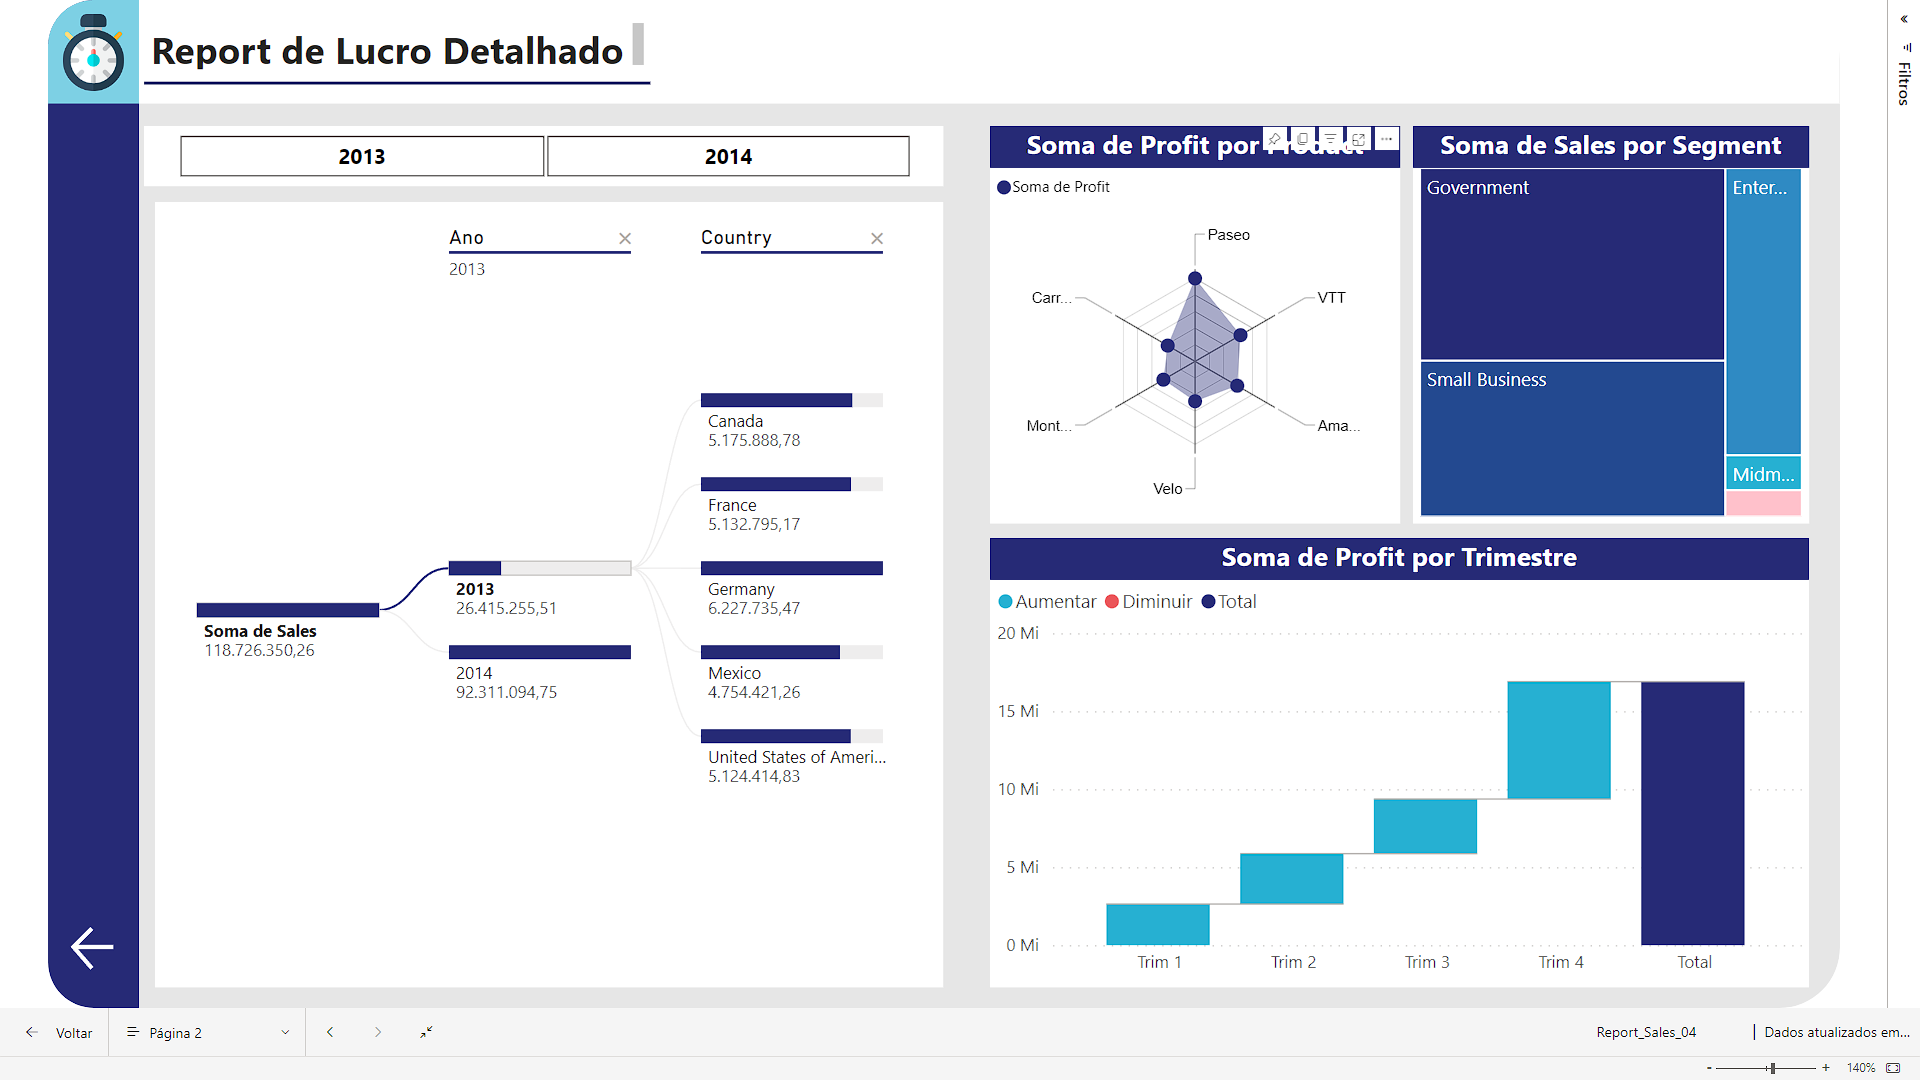

This screenshot's page, from the dashboard's own definition file:
{"tool":"powerbi","page":{"name":"Página 2","canvas":[1280,720],"ordinal":1},"visuals":[{"type":"shape","box":[0,0,1280,720],"z":0},{"type":"shape","box":[0,0,65.4,720],"z":1000},{"type":"shape","box":[0,0,65.4,74.4],"z":2000},{"type":"image","box":[0,0,65.4,74.4],"z":3000},{"type":"shape","box":[65.4,0,1214.6,74.4],"z":4000},{"type":"shape","box":[68.7,54.1,361.7,10.1],"z":5000},{"type":"textbox","box":[68.7,11.3,361.7,42.8],"z":6000},{"type":"slicer","fields":{"Values":["financials.Date.Variation.Hierarquia de datas.Ano"]},"box":[68.7,90.1,571.3,42.8],"z":7000},{"type":"decompositionTreeVisual","fields":{"Analyze":["Sum(financials. Sales)"],"ExplainBy":["financials.Date.Variation.Hierarquia de datas.Ano","financials.Country"]},"box":[76.6,144.2,563.4,561.1],"z":8000},{"type":"treemap","fields":{"Group":["financials.Segment"],"Values":["Sum(financials. Sales)"]},"box":[974.6,90.1,282.8,283.9],"z":9000},{"type":"waterfallChart","fields":{"Y":["Sum(financials.Profit)"],"Category":["financials.Date.Variation.Hierarquia de datas.Trimestre"]},"box":[672.7,384.2,584.8,321.1],"z":10000},{"type":"RadarChart1446119667547","fields":{"Y":["Sum(financials.Profit)"],"Category":["financials.Product"]},"box":[672.7,90.1,293,283.9],"z":11000},{"type":"actionButton","box":[12.4,656.9,40.6,40.6],"z":12000}]}

Visuals, with their boxes on the page's 1280x720 design canvas (x1, y1, x2, y2). These are canvas units, not pixel positions in the 1920x1080 screenshot, which may show the page scaled, cropped or inside an application window:
shape: 0/0/1280/720
shape: 0/0/65/720
shape: 0/0/65/74
image: 0/0/65/74
shape: 65/0/1280/74
shape: 69/54/430/64
textbox: 69/11/430/54
slicer - financials.Date.Variation.Hierarquia de datas.Ano: 69/90/640/133
decompositionTreeVisual - Sum(financials. Sales) x financials.Date.Variation.Hierarquia de datas.Ano: 77/144/640/705
treemap - financials.Segment x Sum(financials. Sales): 975/90/1257/374
waterfallChart - Sum(financials.Profit) x financials.Date.Variation.Hierarquia de datas.Trimestre: 673/384/1258/705
RadarChart1446119667547 - Sum(financials.Profit) x financials.Product: 673/90/966/374
actionButton: 12/657/53/698
